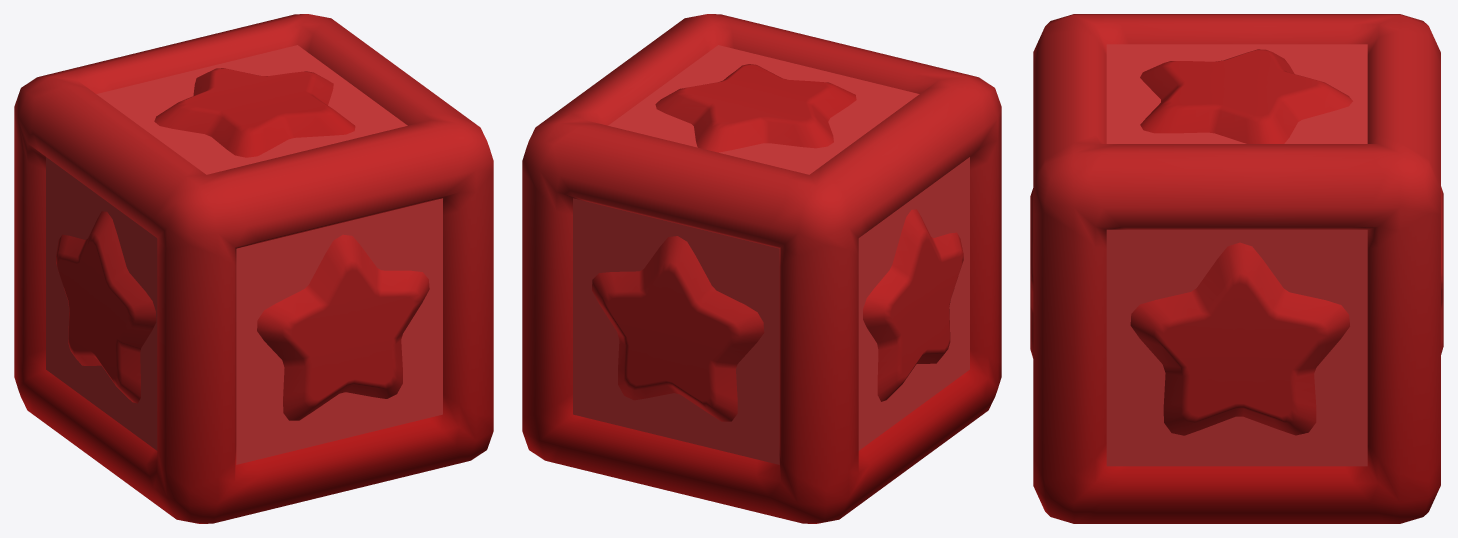
File: Star_Block_Red.fbx
3 renders of one model, left to right at view 1: azimuth 30°, elevation 25°; view 2: azimuth 150°, elevation 25°; view 3: azimuth 270°, elevation 25°, orthographic. The views are drawn at different scales.
Visible parts, largest first — view 1: Star Block_Red; view 2: Star Block_Red; view 3: Star Block_Red.
Part boxes in pixels (<box>): Star Block_Red: <box>14,14,493,523</box>; Star Block_Red: <box>522,14,1001,523</box>; Star Block_Red: <box>1030,14,1443,523</box>.
Bounding box in the file's own units: 101 × 101 × 101.
